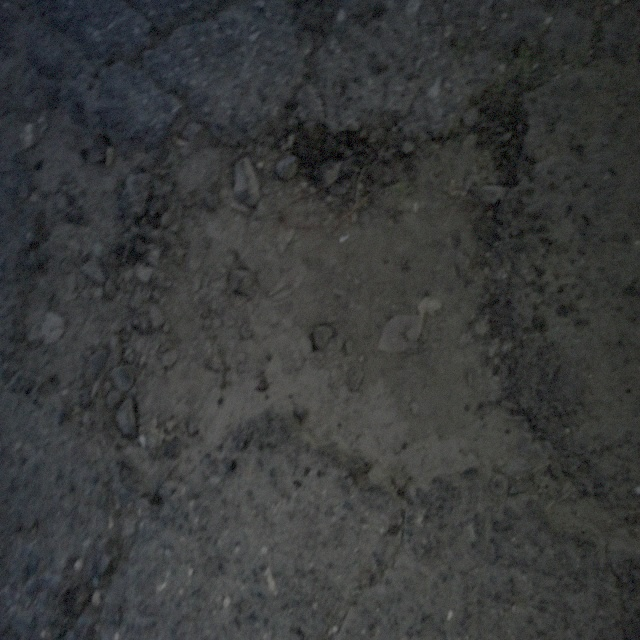pothole: (10, 90, 572, 528)
